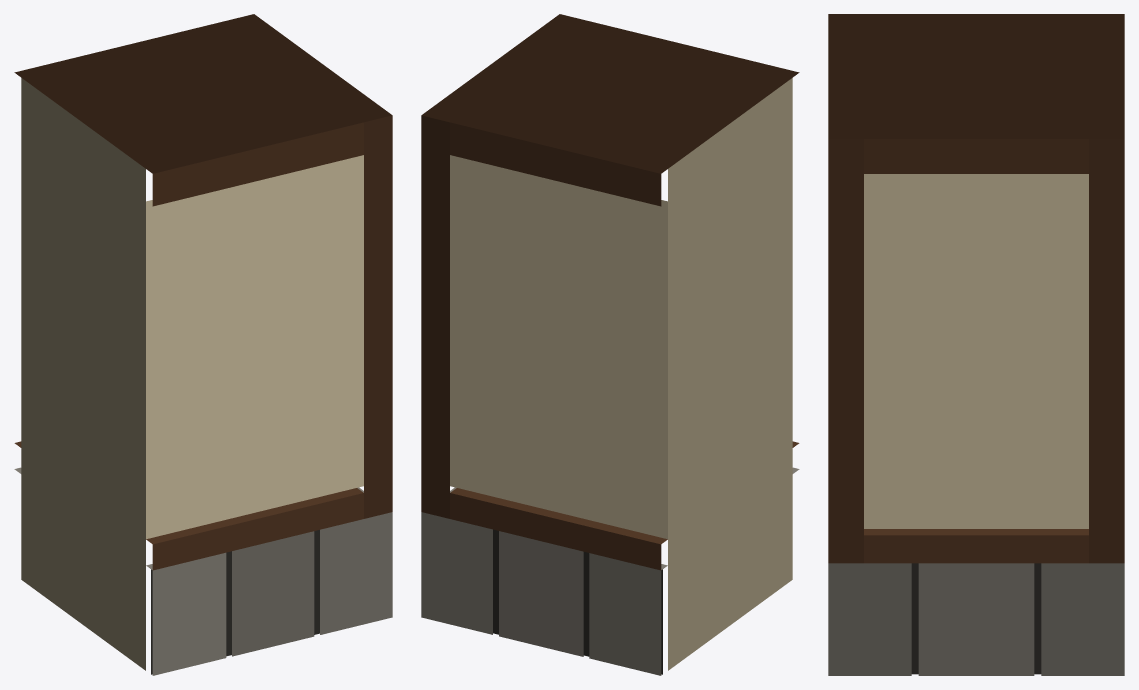
File: tile_house_wall_4.glb
3 views of the same model, side by side, from view 1: azimuth 30°, elevation 25°; view 2: azimuth 150°, elevation 25°; view 3: azimuth 270°, elevation 25° (orthographic). The views are drawn at different scales.
Parts seen in each view (by area): view 1: tile_house_wall_4; view 2: tile_house_wall_4; view 3: tile_house_wall_4.
Part boxes in pixels (x1=…): tile_house_wall_4: x1=14, y1=14, x2=392, y2=675; tile_house_wall_4: x1=421, y1=14, x2=799, y2=675; tile_house_wall_4: x1=828, y1=14, x2=1124, y2=675.
Size of the model in its own units: 1 by 2 by 1.
